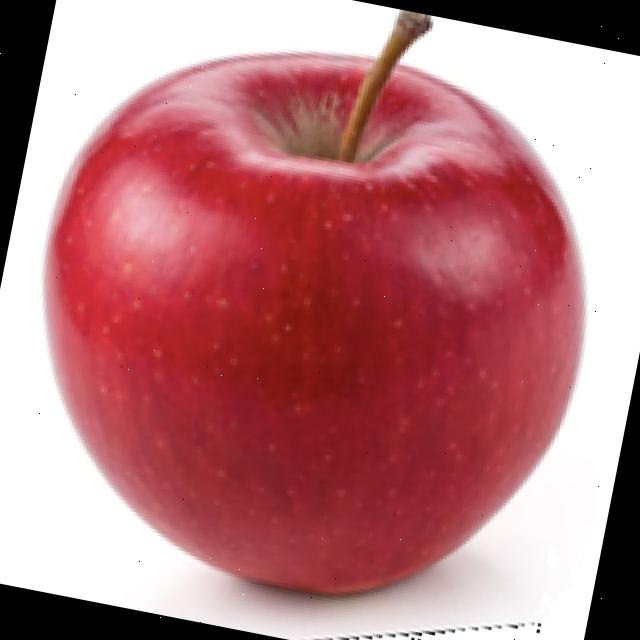apple: (37, 8, 590, 640)
